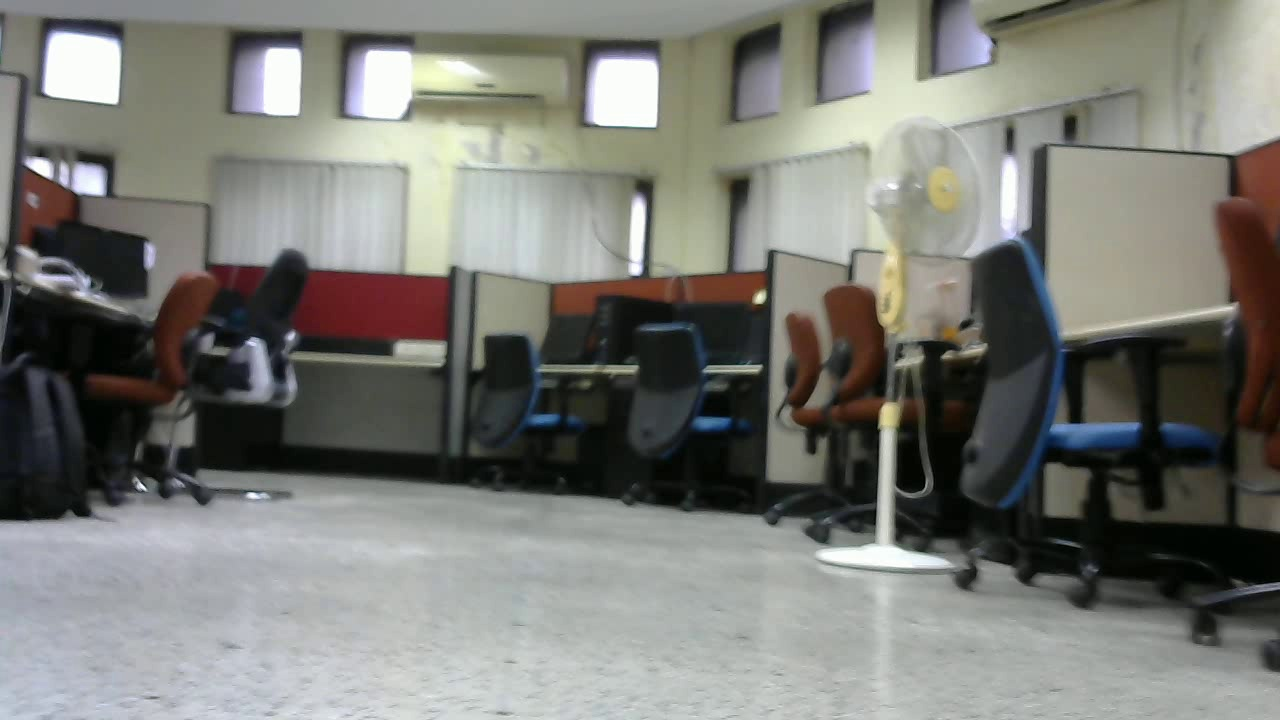chair: (936, 246, 1222, 606), (752, 283, 958, 546), (171, 248, 310, 496), (71, 270, 219, 482), (612, 316, 771, 509), (465, 332, 606, 500)
